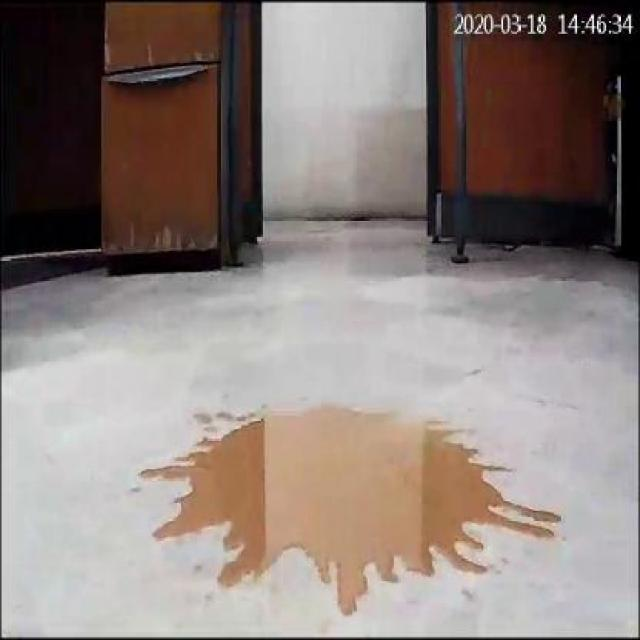spill: (133, 403, 564, 622)
